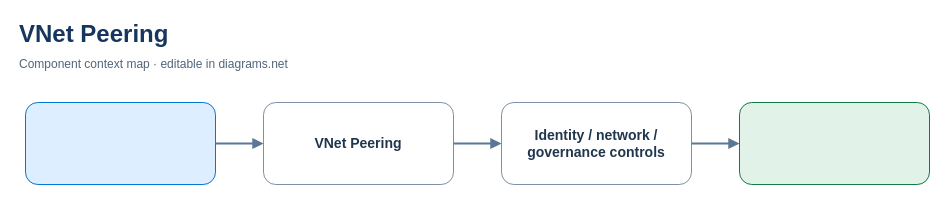
The diagram is 947 pixels wide and 202 high, and some of its shapes have lost their labels. The shapes that lost their labels are listed below. From the top down, each one's centre as x and y in pixels, then its label:
At [120,143]: "C · Networking & Private Connectivity".
At [834,143]: "Monitoring / resilience / operations".
